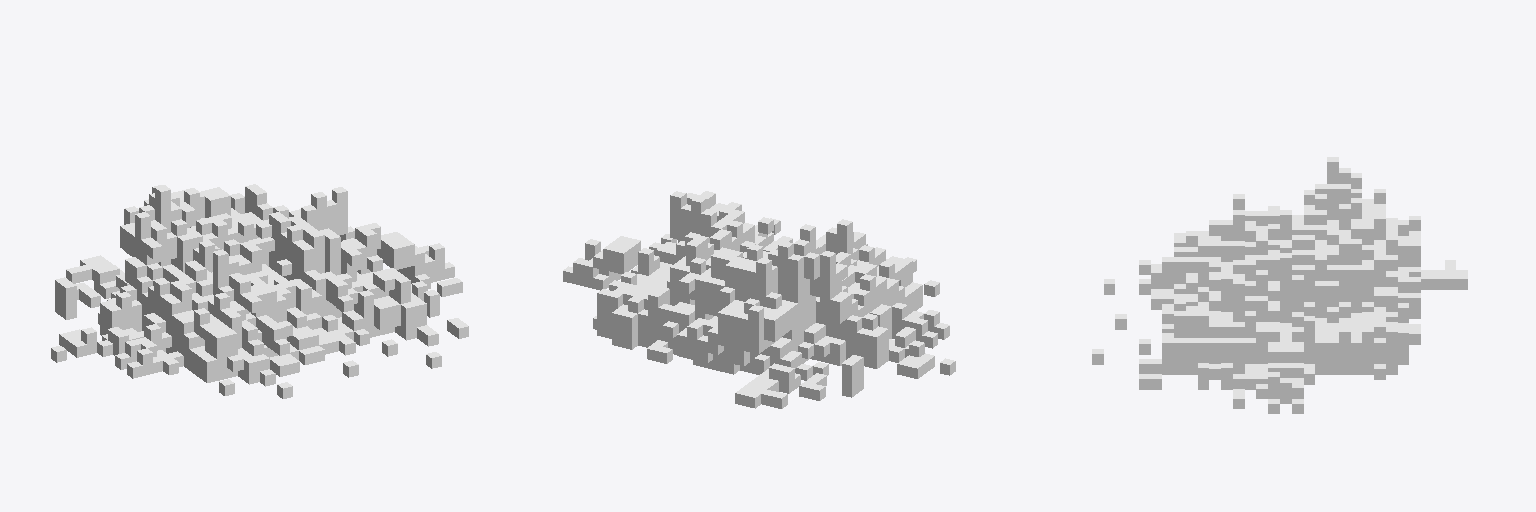
Rendered from monster1_die4.obj.
3 views of the same model, side by side, from view 1: azimuth 30°, elevation 25°; view 2: azimuth 150°, elevation 25°; view 3: azimuth 270°, elevation 25° (orthographic).
Parts seen in each view (by area): view 1: monster1_die4; view 2: monster1_die4; view 3: monster1_die4.
Part boxes in pixels (bbox=[...]): monster1_die4: bbox=[51, 184, 468, 398]; monster1_die4: bbox=[563, 191, 955, 408]; monster1_die4: bbox=[1092, 157, 1467, 413].
Size of the model in its own units: 38 by 12 by 32.